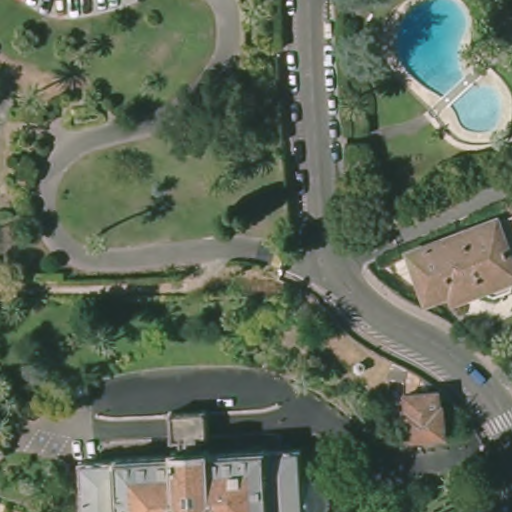pool: (380, 1, 506, 137)
